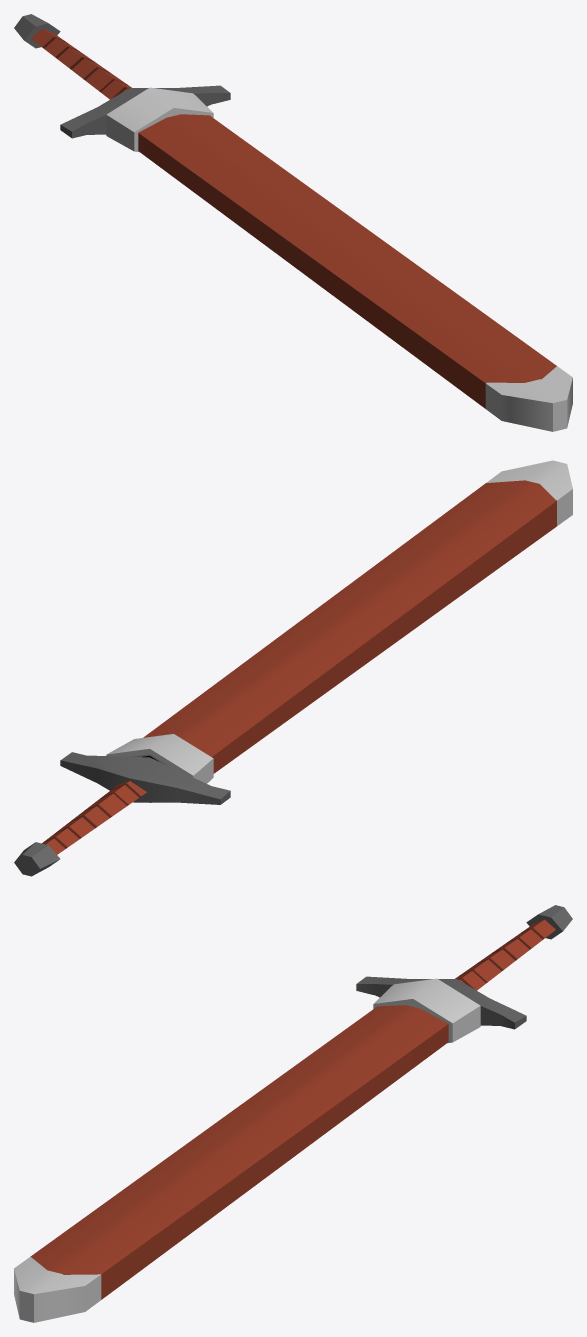
Rendered from SwordBasic_A.glb.
3 renders of one model, top to bottom at view 1: azimuth 30°, elevation 25°; view 2: azimuth 150°, elevation 25°; view 3: azimuth 330°, elevation 25°, orthographic.
Parts seen in each view (by area): view 1: SwordScabbardBasic_A, SwordBasic_A.001; view 2: SwordScabbardBasic_A, SwordBasic_A.001; view 3: SwordScabbardBasic_A, SwordBasic_A.001.
Part boxes in pixels (x1,y1,x2,y2): SwordScabbardBasic_A: [106, 87, 572, 431]; SwordBasic_A.001: [14, 14, 230, 138]; SwordScabbardBasic_A: [106, 460, 572, 802]; SwordBasic_A.001: [14, 752, 230, 876]; SwordScabbardBasic_A: [14, 978, 480, 1322]; SwordBasic_A.001: [356, 905, 572, 1029].
Bounding box in the file's own units: 0.251 × 0.0813 × 1.45.
Materials: 1 (1 with a texture image).
